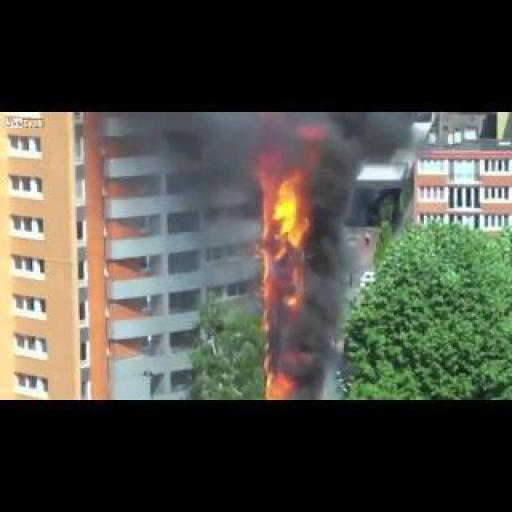smoke: (294, 112, 358, 398), (138, 112, 259, 243), (258, 152, 306, 307), (248, 299, 342, 370), (360, 112, 430, 170), (259, 358, 291, 398)
